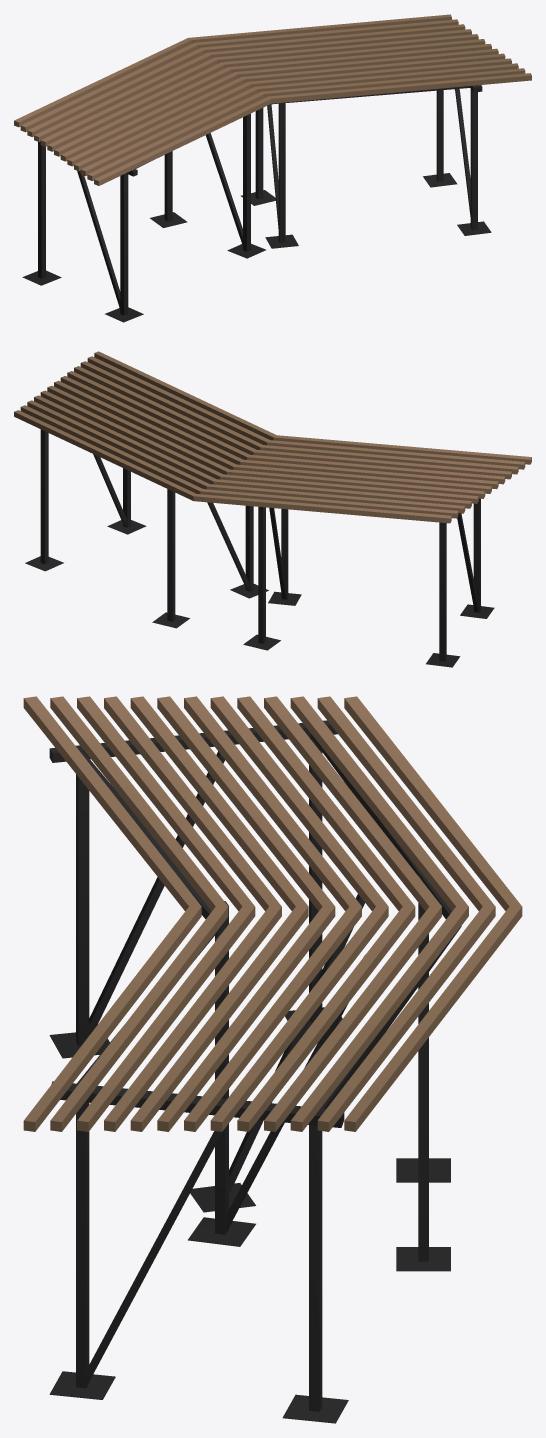
File: Home.fbx
3 renders of one model, top to bottom at view 1: azimuth 30°, elevation 25°; view 2: azimuth 150°, elevation 25°; view 3: azimuth 270°, elevation 25°, orthographic. The views are drawn at different scales.
Visible parts, largest first — view 1: Cube.494; view 2: Cube.494; view 3: Cube.494.
Boxes of the visible parts, left/top/right/bottom form: Cube.494: left=14, top=14, right=531, bottom=322; Cube.494: left=14, top=351, right=531, bottom=667; Cube.494: left=23, top=696, right=522, bottom=1423.
Size of the model in its own units: 19.77 by 9.78 by 6.65.
